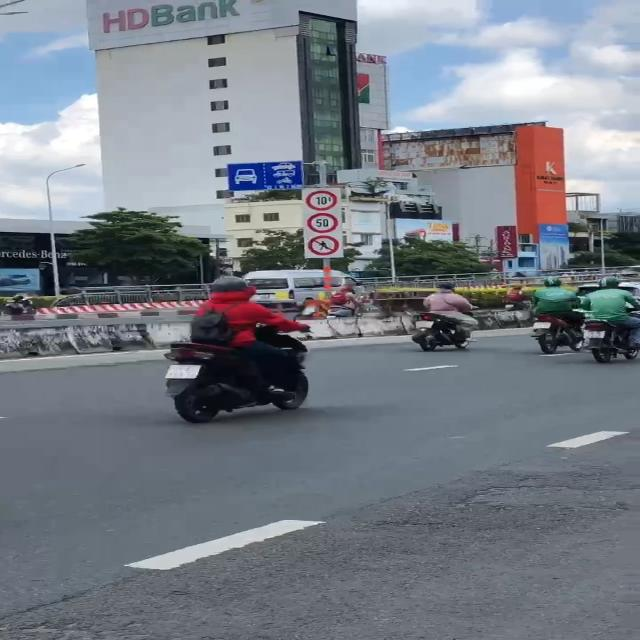Bien bao cam nguoi di bo: (306, 234, 344, 258)
Bien bao toc do toi da cho phep: (304, 212, 338, 234)
